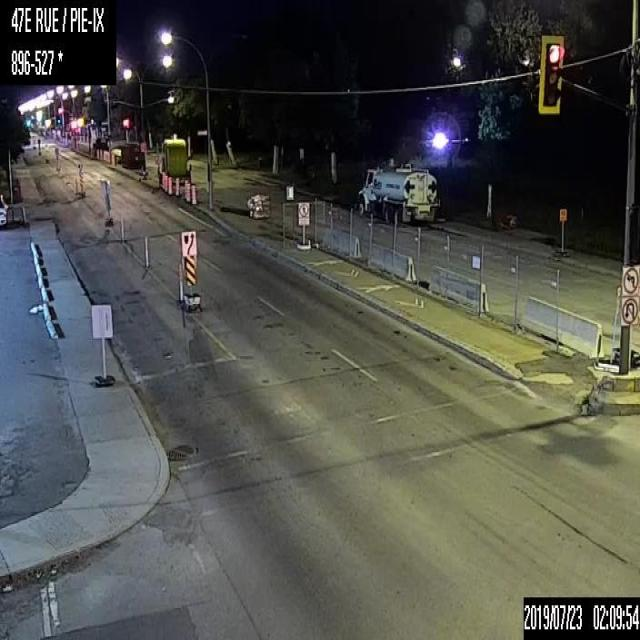construction: (177, 262, 183, 302), (144, 236, 148, 269), (190, 182, 196, 204), (184, 179, 189, 201), (120, 216, 124, 243), (162, 172, 167, 191), (174, 177, 179, 196), (168, 176, 171, 194)
vehicle: (355, 157, 439, 227), (0, 192, 9, 229)
